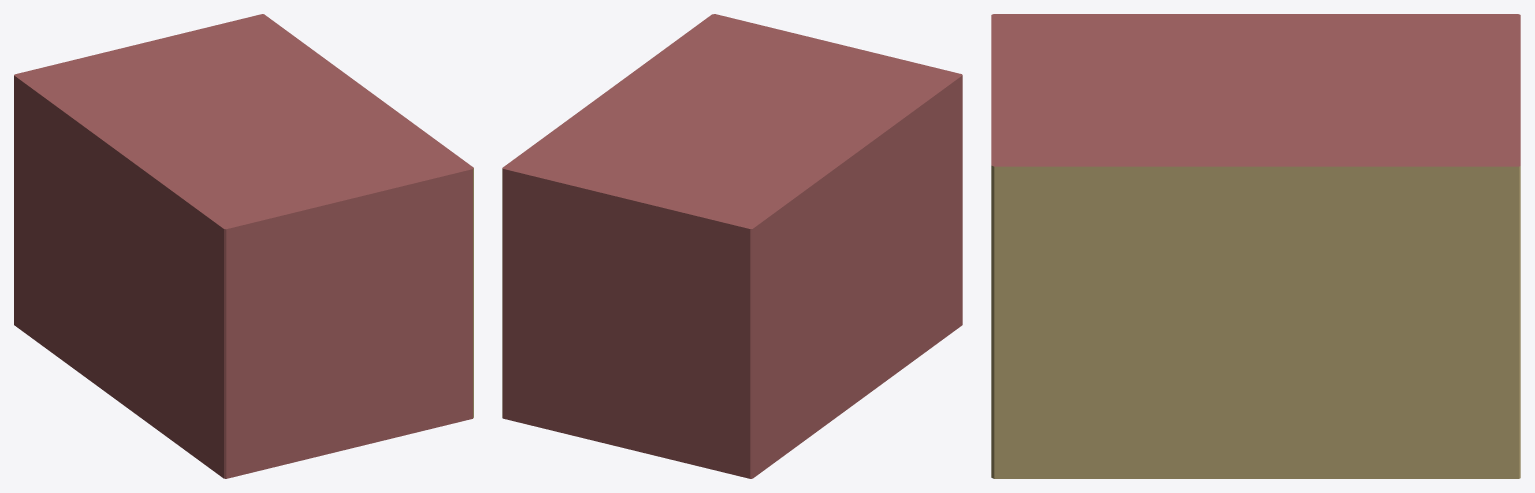
File: loin-etape-1.glb
The picture shows the model from 3 angles, left to right: view 1: azimuth 30°, elevation 25°; view 2: azimuth 150°, elevation 25°; view 3: azimuth 270°, elevation 25°; orthographic projection. The views are drawn at different scales.
Parts seen in each view (by area): view 1: loin; view 2: loin; view 3: loin.
Part boxes in pixels (x1,y1,x2,y2): loin: [14, 14, 473, 478]; loin: [502, 14, 962, 478]; loin: [991, 14, 1520, 478].
Bounding box in the file's own units: 0.6523 × 0.6221 × 0.9553.
